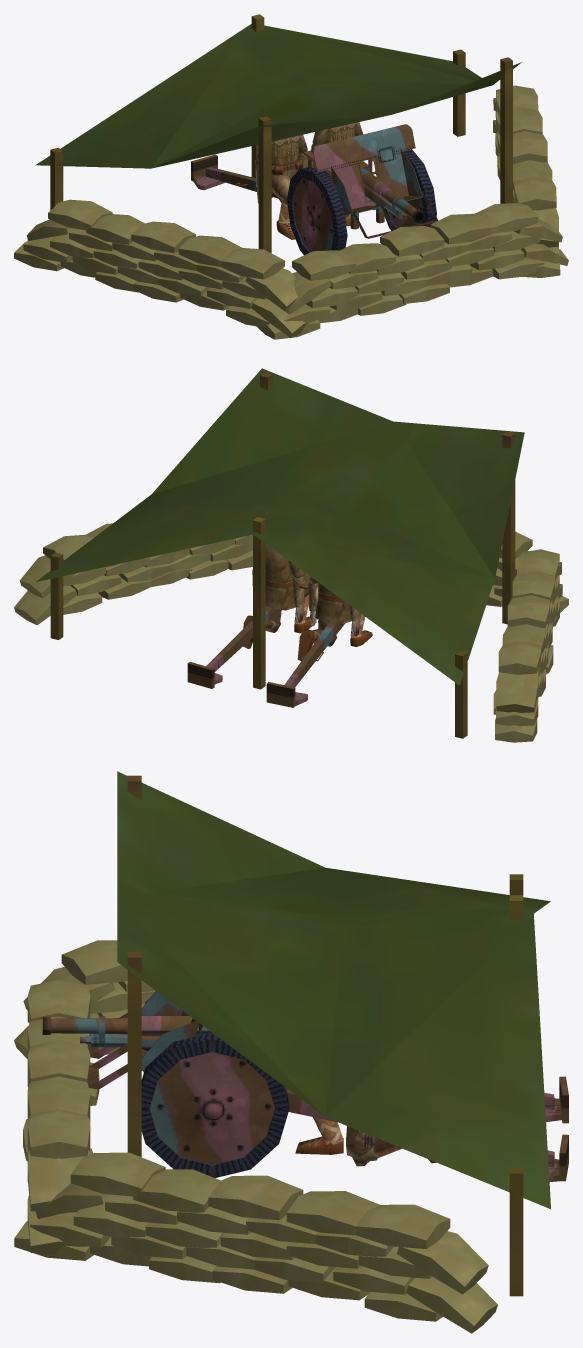
The model's file is JPNType91_105mm_Stationary.dae.
The picture shows the model from 3 angles, top to bottom: view 1: azimuth 30°, elevation 25°; view 2: azimuth 150°, elevation 25°; view 3: azimuth 270°, elevation 25°; orthographic projection. The views are drawn at different scales.
Parts seen in each view (by area): view 1: base, carriage, wheels, trail1, torso1, barrel, sleeve; view 2: base, trail1, trail2, torso2, torso1; view 3: base, wheels, carriage, barrel, trail2, sleeve, trail1.
Part boxes in pixels (x1=…): base: x1=14, y1=14, x2=568, y2=339; carriage: x1=313, y1=124, x2=438, y2=238; wheels: x1=287, y1=149, x2=436, y2=255; trail1: x1=191, y1=154, x2=280, y2=199; torso1: x1=271, y1=135, x2=302, y2=193; barrel: x1=360, y1=161, x2=423, y2=222; sleeve: x1=301, y1=149, x2=407, y2=219; base: x1=14, y1=368, x2=568, y2=742; trail1: x1=266, y1=622, x2=345, y2=707; trail2: x1=187, y1=606, x2=281, y2=688; torso2: x1=265, y1=544, x2=295, y2=610; torso1: x1=313, y1=582, x2=351, y2=624; base: x1=14, y1=771, x2=550, y2=1333; wheels: x1=141, y1=999, x2=289, y2=1177; carriage: x1=87, y1=991, x2=203, y2=1089; barrel: x1=42, y1=1015, x2=211, y2=1036; trail2: x1=285, y1=1087, x2=568, y2=1181; sleeve: x1=80, y1=1016, x2=195, y2=1047; trail1: x1=544, y1=1076, x2=568, y2=1123.
Size of the model in its own units: 51.33 by 31.97 by 18.15.
